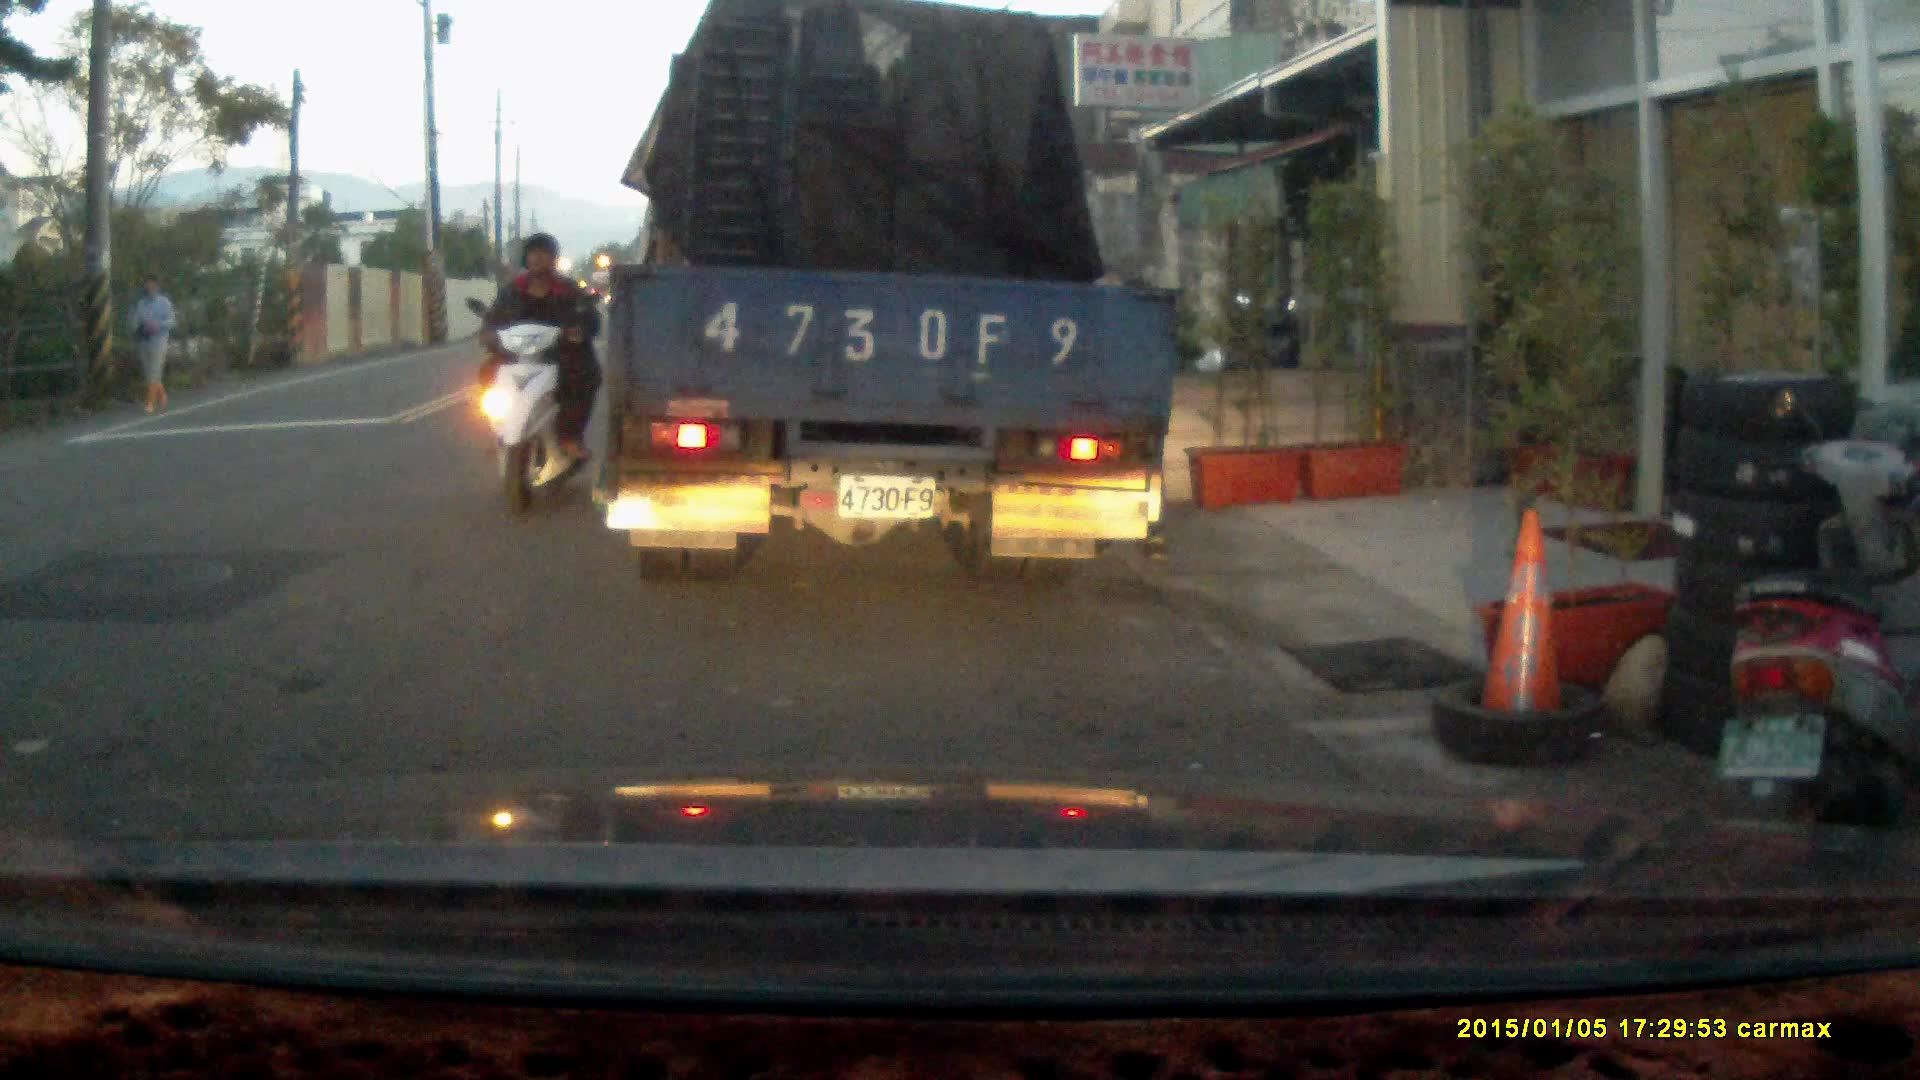pedestrian: (126, 272, 176, 417)
rider: (464, 233, 605, 520)
vehicle: (603, 23, 1188, 572)
